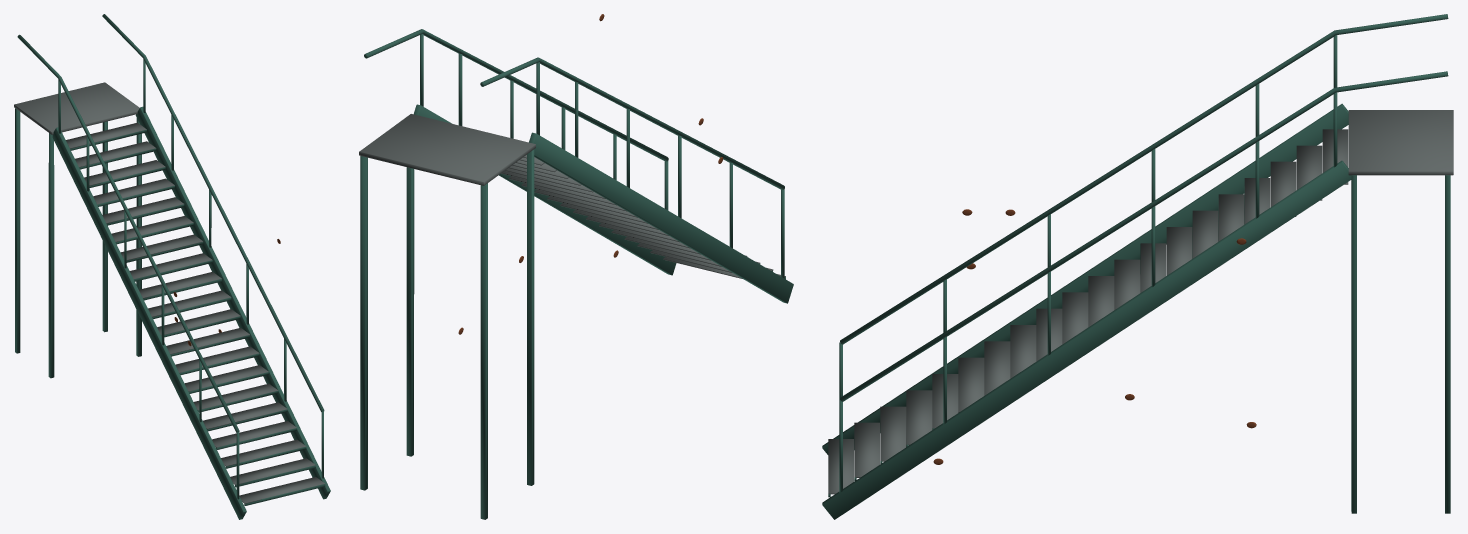
The model's file is cau_thang_323_445_110.glb.
3 views of the same model, side by side, from view 1: azimuth 30°, elevation 25°; view 2: azimuth 150°, elevation 25°; view 3: azimuth 270°, elevation 25° (orthographic). The views are drawn at different scales.
Parts seen in each view (by area): view 1: cau_thang_323_445_110; view 2: cau_thang_323_445_110; view 3: cau_thang_323_445_110.
Boxes of the visible parts, bbox=[...] form: cau_thang_323_445_110: bbox=[14, 14, 330, 519]; cau_thang_323_445_110: bbox=[359, 14, 793, 519]; cau_thang_323_445_110: bbox=[822, 14, 1453, 519].
Size of the model in its own units: 1.25 by 4.22 by 5.4.
